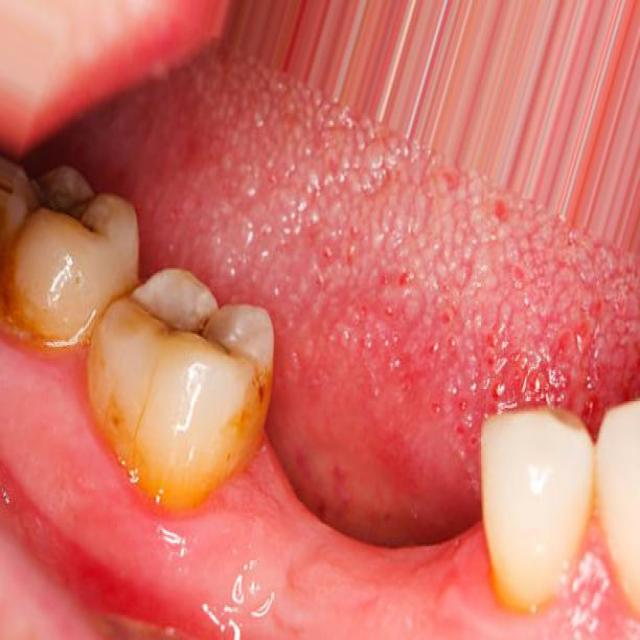caries: (144, 288, 230, 358), (17, 168, 91, 242)
